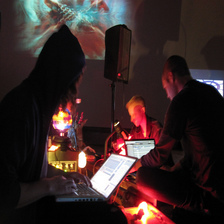laptop: (36, 148, 138, 208), (122, 136, 161, 178)
